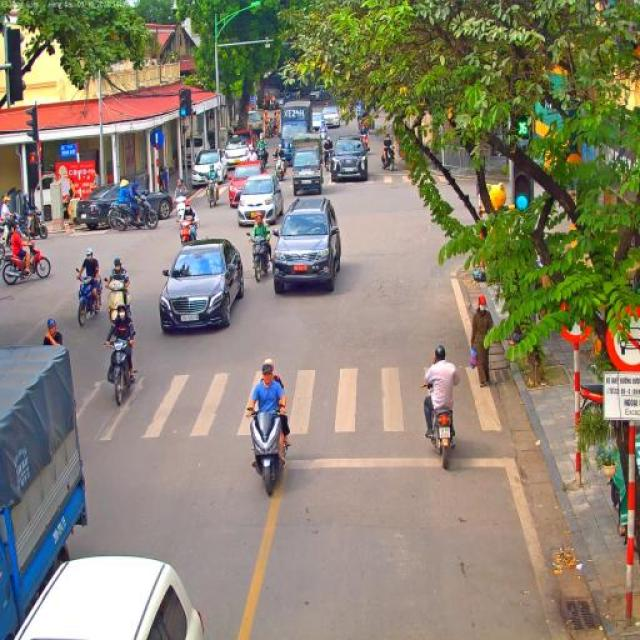car: (14, 554, 206, 640), (158, 238, 246, 334), (270, 195, 342, 294), (76, 182, 174, 232), (237, 173, 284, 227), (330, 134, 370, 182), (228, 162, 262, 208), (191, 149, 224, 190), (224, 136, 250, 176), (321, 106, 340, 128), (310, 90, 330, 110), (278, 91, 298, 110), (234, 128, 252, 148)
motorcycle: (246, 403, 292, 496), (420, 382, 458, 470), (104, 330, 138, 406), (2, 236, 52, 286), (75, 266, 103, 326), (104, 277, 132, 327), (248, 234, 272, 282), (130, 193, 159, 231), (108, 200, 142, 232), (20, 207, 49, 244), (2, 212, 28, 248), (178, 214, 200, 246), (172, 195, 186, 226), (381, 144, 395, 172), (206, 178, 218, 208), (274, 157, 286, 182), (258, 147, 268, 174), (360, 134, 371, 154), (324, 152, 334, 172), (318, 128, 327, 147), (268, 120, 276, 139), (357, 112, 363, 128)
truck: (0, 344, 88, 640), (278, 99, 314, 162), (291, 133, 324, 195), (246, 110, 264, 144), (257, 81, 275, 105)
